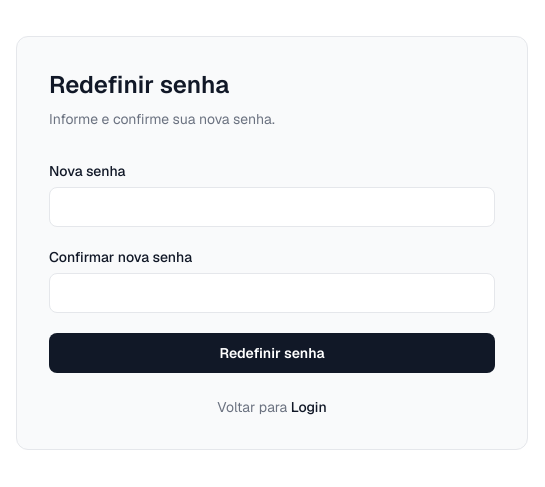
Test: ResetPasswordPage › deve rejeitar quando o token não for informado
This screenshot has width=545, height=487.
Type "novaSenha123" into the password field labelled "Nova senha" at coordinates (272, 207), box [49,187,495,227]
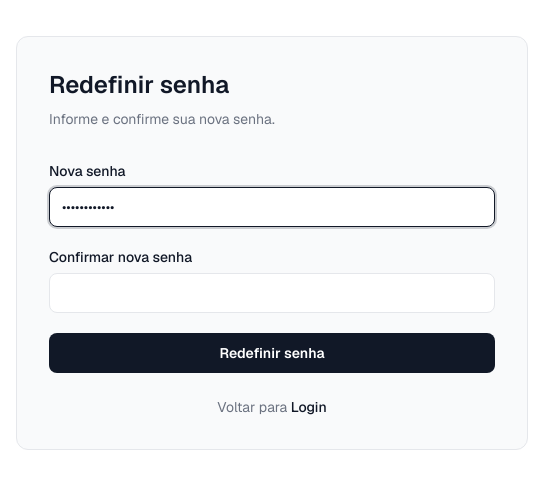
Type "novaSenha123" into the password field labelled "Confirmar nova senha" at coordinates (272, 293), box [49,273,495,313]
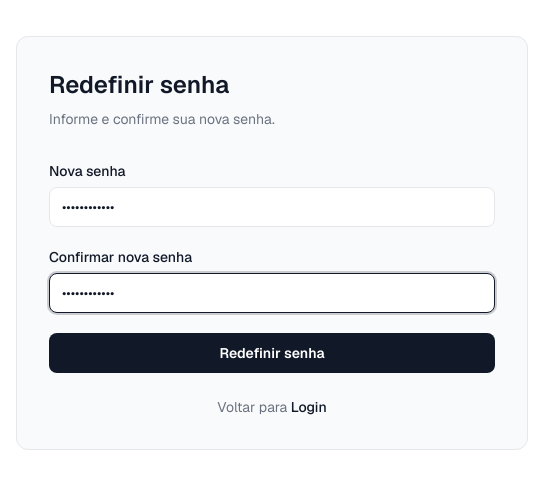
Click the button "Redefinir senha" at coordinates (272, 353), box [49,333,495,373]
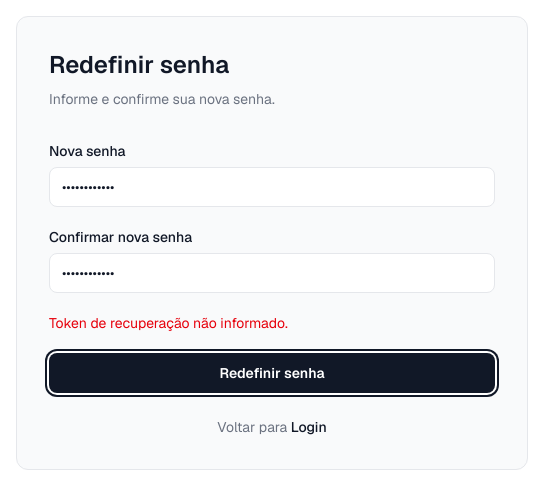
Now the message reads "Token de recuperação não informado.", box [49,314,288,332]
